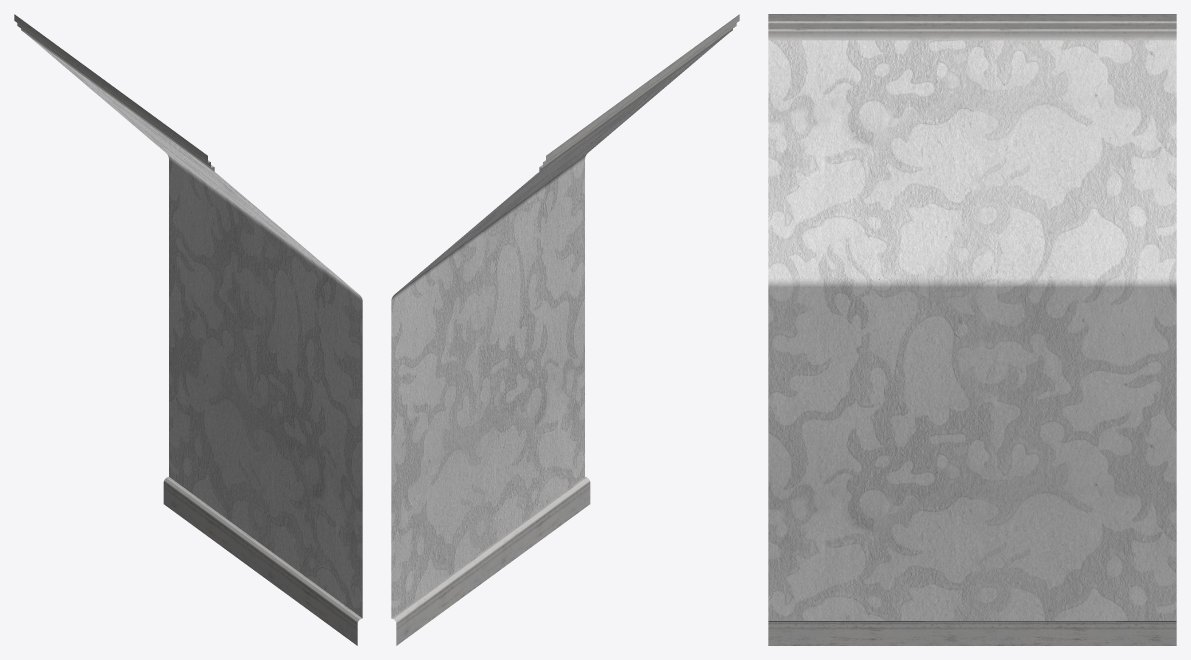
The model's file is SM_Wall_Bedroom_Sloped_2M.fbx.
3 renders of one model, left to right at view 1: azimuth 30°, elevation 25°; view 2: azimuth 150°, elevation 25°; view 3: azimuth 270°, elevation 25°, orthographic. The views are drawn at different scales.
Parts seen in each view (by area): view 1: SM_Wall_Bedroom_Sloped_2M_LOD0; view 2: SM_Wall_Bedroom_Sloped_2M_LOD0; view 3: SM_Wall_Bedroom_Sloped_2M_LOD0.
Boxes of the visible parts, x1,y1,x2,y2 form: SM_Wall_Bedroom_Sloped_2M_LOD0: (14, 14, 362, 645); SM_Wall_Bedroom_Sloped_2M_LOD0: (391, 14, 739, 645); SM_Wall_Bedroom_Sloped_2M_LOD0: (768, 14, 1176, 645).
Size of the model in its own units: 92.28 by 200 by 300.
